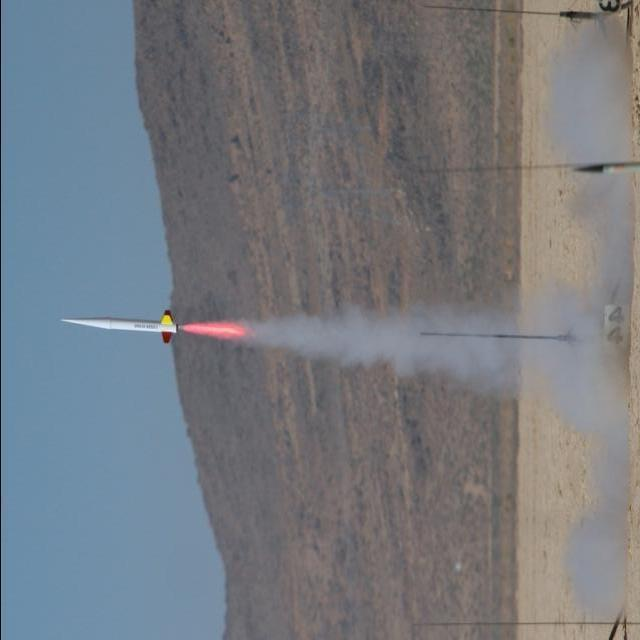missile: (62, 309, 180, 345)
